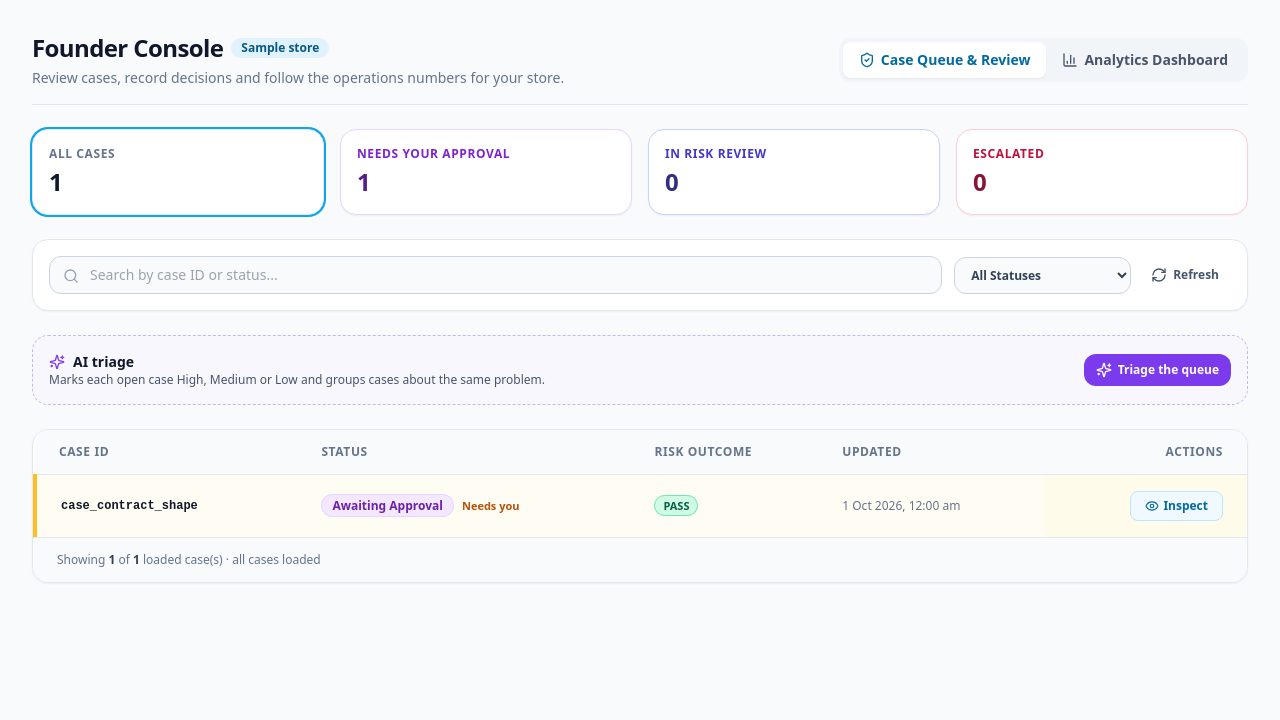
Test: FounderConsole failure and live-mode paths › shows an audit failure and never renders the recorded-events banner
What coordinates should you click on to do the following:
click the button "Inspect"
I would click on:
 (1177, 506)
Its box is [1130,491,1223,521].
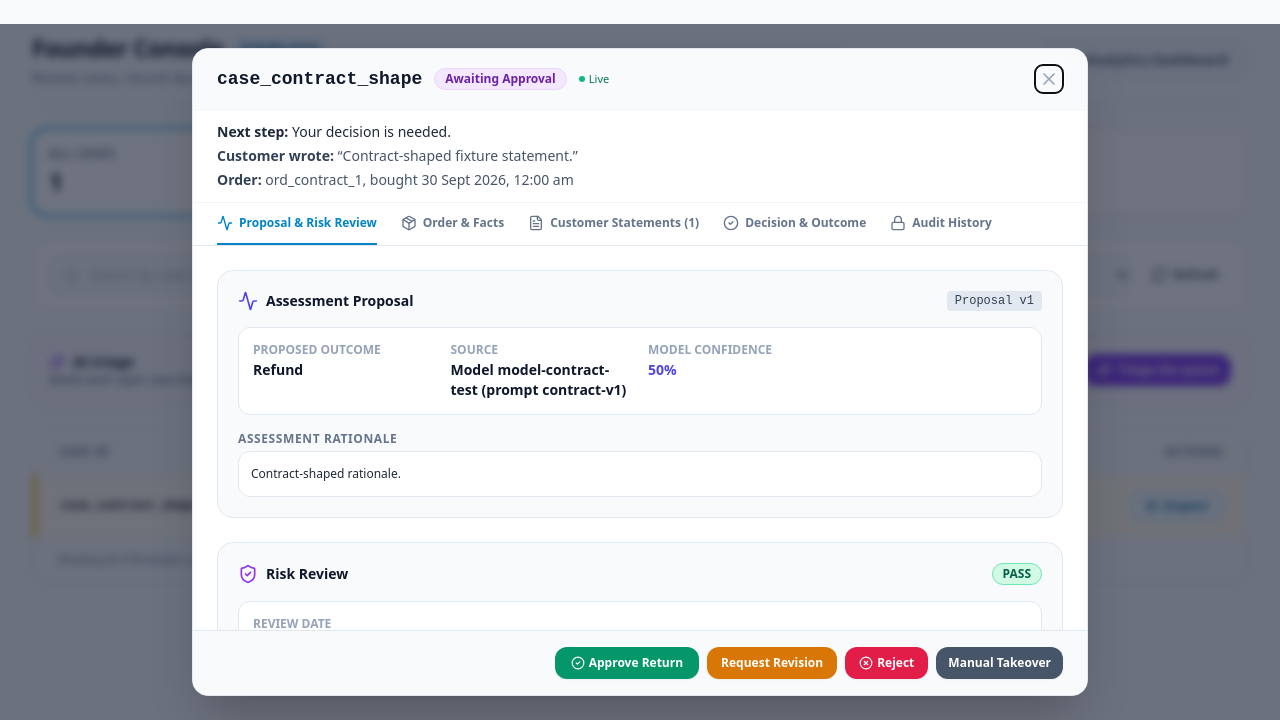
What coordinates should you click on to do the following:
click the tab "Audit History"
I would click on:
 (941, 224)
Its box is [890,203,992,245].
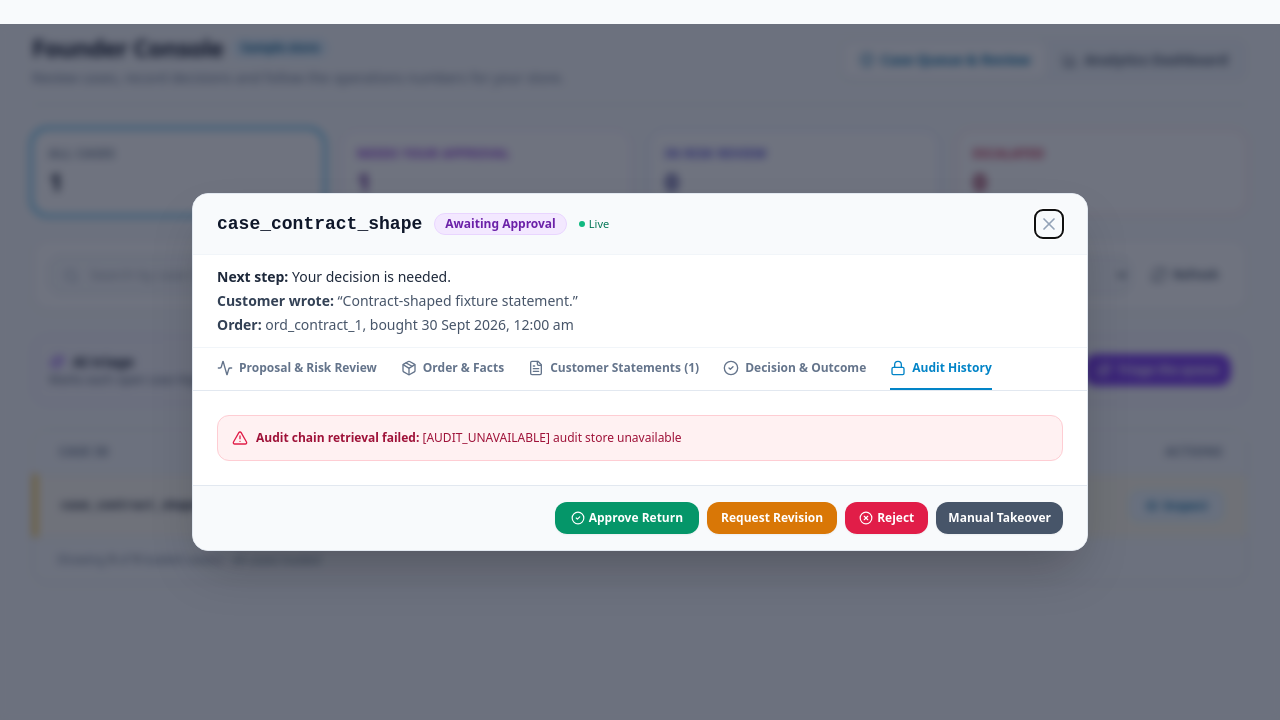
expect the text "Audit chain retrieval failed:" is shown: met, box [256,429,419,446]
